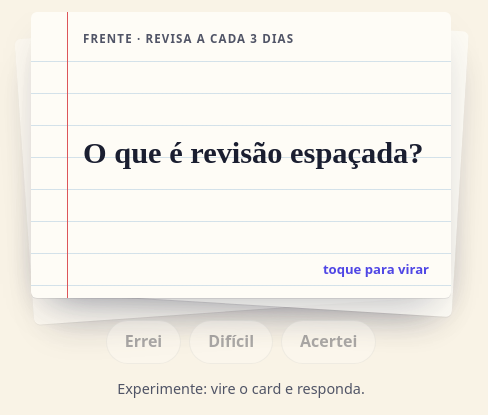
Scenario: DemoDeck › agenda como o app e passa para o próximo card
This screenshot has width=488, height=415.
// Primeiro card está em 3 dias: acertar sobe para 5.
Click the button with aria-label "pergunta: o que é revisão espaçada" at (241, 155), box [31,12,451,298]
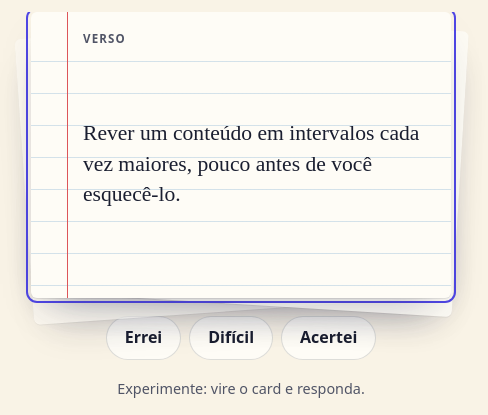
Click the button "Acertei" at (329, 338), box [281,316,376,360]
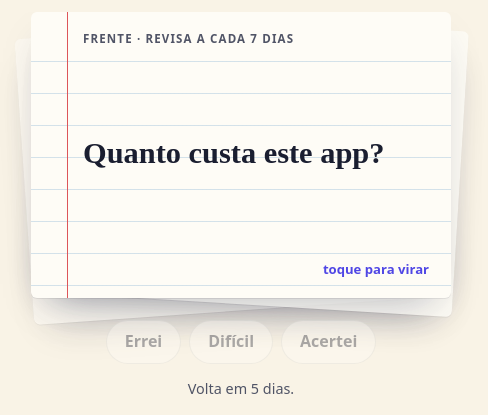
Expected: the message reads "Volta em 5 dias.", [188,379,294,398]
// Segundo card: errar volta para amanhã.
Click the button with aria-label "pergunta: quanto custa" at (241, 155), box [31,12,451,298]
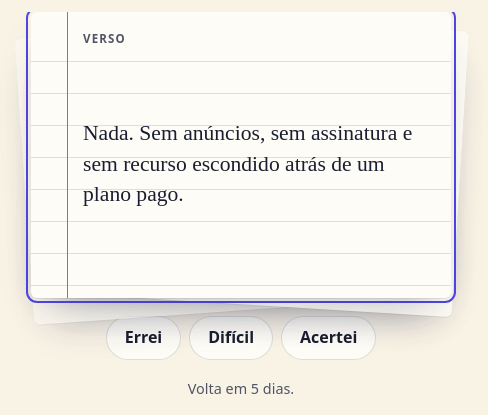
Click the button "Errei" at (143, 338), box [106,316,181,360]
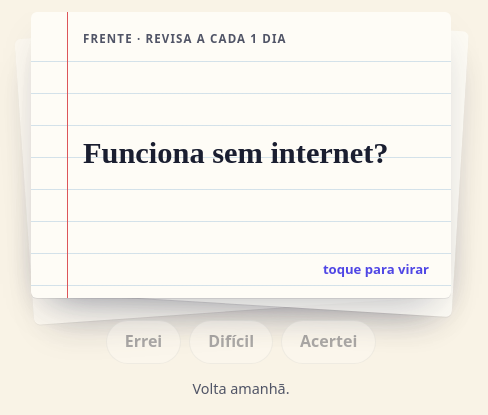
Expected: the message reads "Volta amanhã.", [192,379,290,398]
